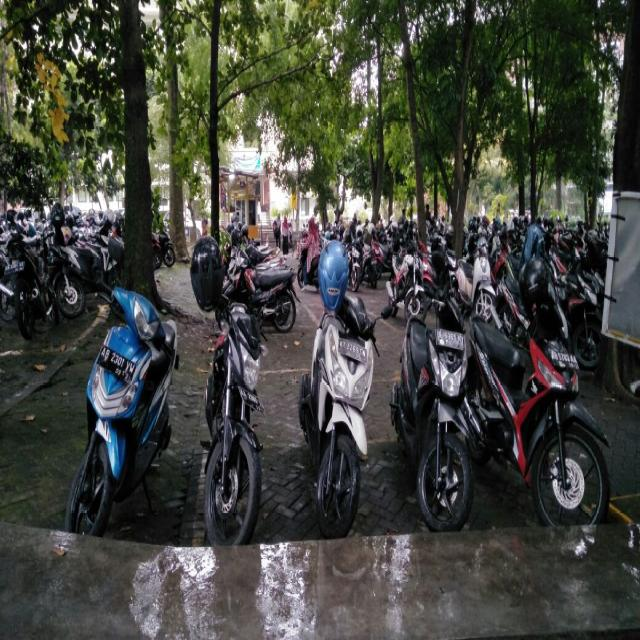plate: (95, 342, 135, 384), (337, 334, 368, 366), (434, 326, 464, 347), (548, 347, 578, 366)
